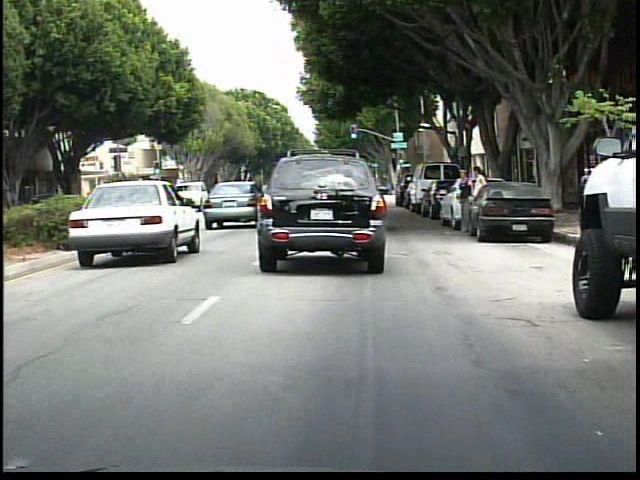person: (455, 168, 477, 239), (469, 164, 490, 233)
